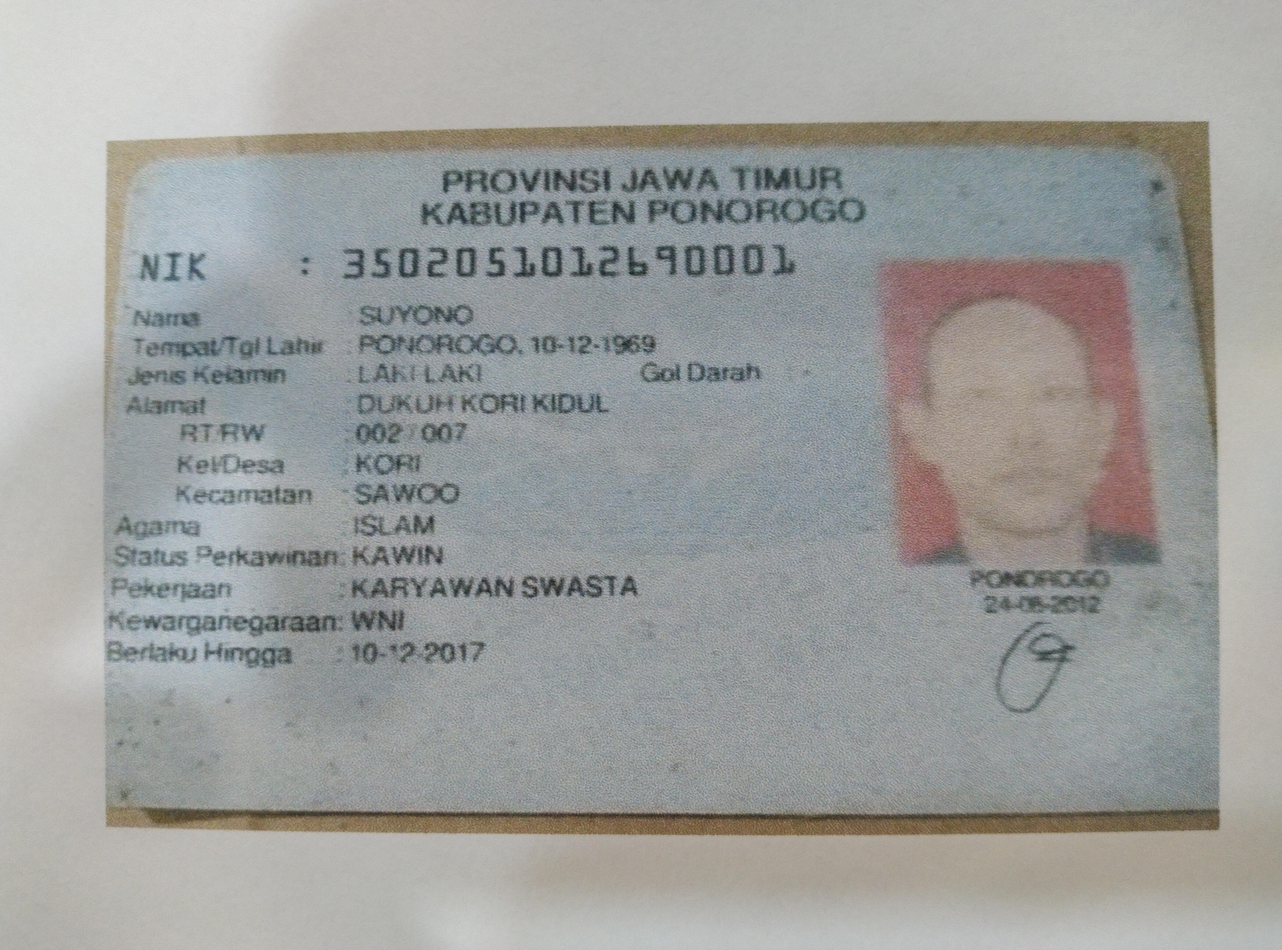ID-card: (110, 151, 1211, 801)
